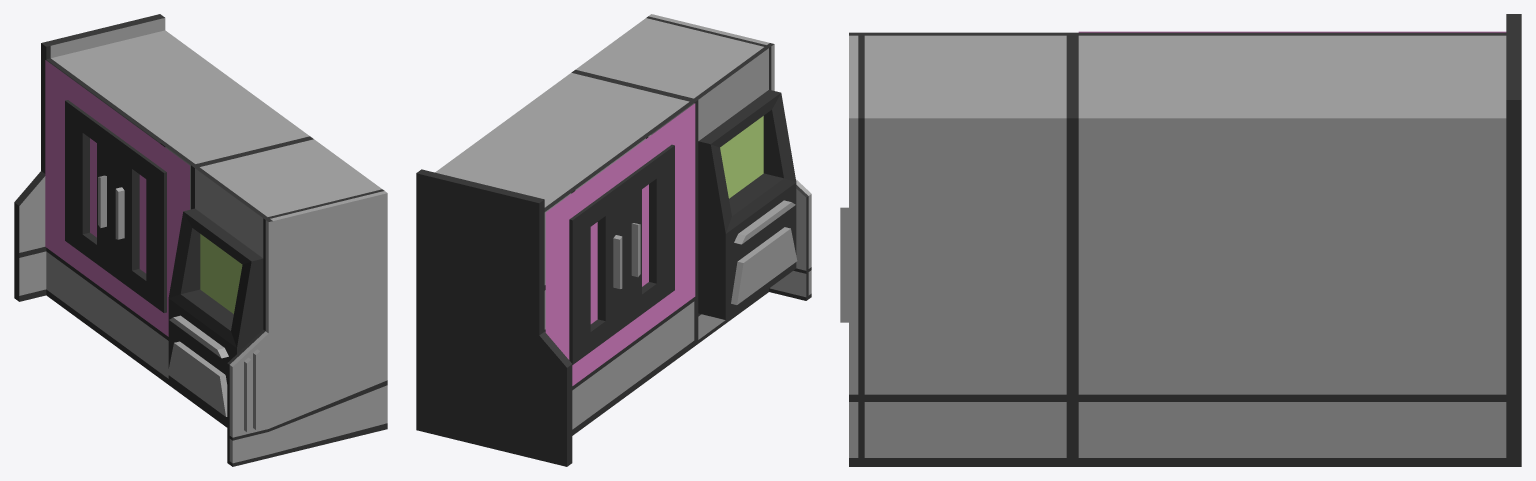
File: SurfaceArea_Molding.fbx
3 views of the same model, side by side, from view 1: azimuth 30°, elevation 25°; view 2: azimuth 150°, elevation 25°; view 3: azimuth 270°, elevation 25° (orthographic). The views are drawn at different scales.
Parts seen in each view (by area): view 1: Cube.319, Cube.320, Cube.321; view 2: Cube.319, Cube.321, Cube.320; view 3: Cube.319.
Part boxes in pixels (x1,y1,x2,y2): Cube.319: (14, 14, 387, 466); Cube.320: (45, 60, 117, 299); Cube.321: (114, 113, 189, 336); Cube.319: (416, 14, 811, 466); Cube.321: (620, 103, 695, 350); Cube.320: (545, 158, 623, 385); Cube.319: (840, 14, 1521, 466).
Size of the model in its own units: 1.11 by 2.87 by 1.71.
